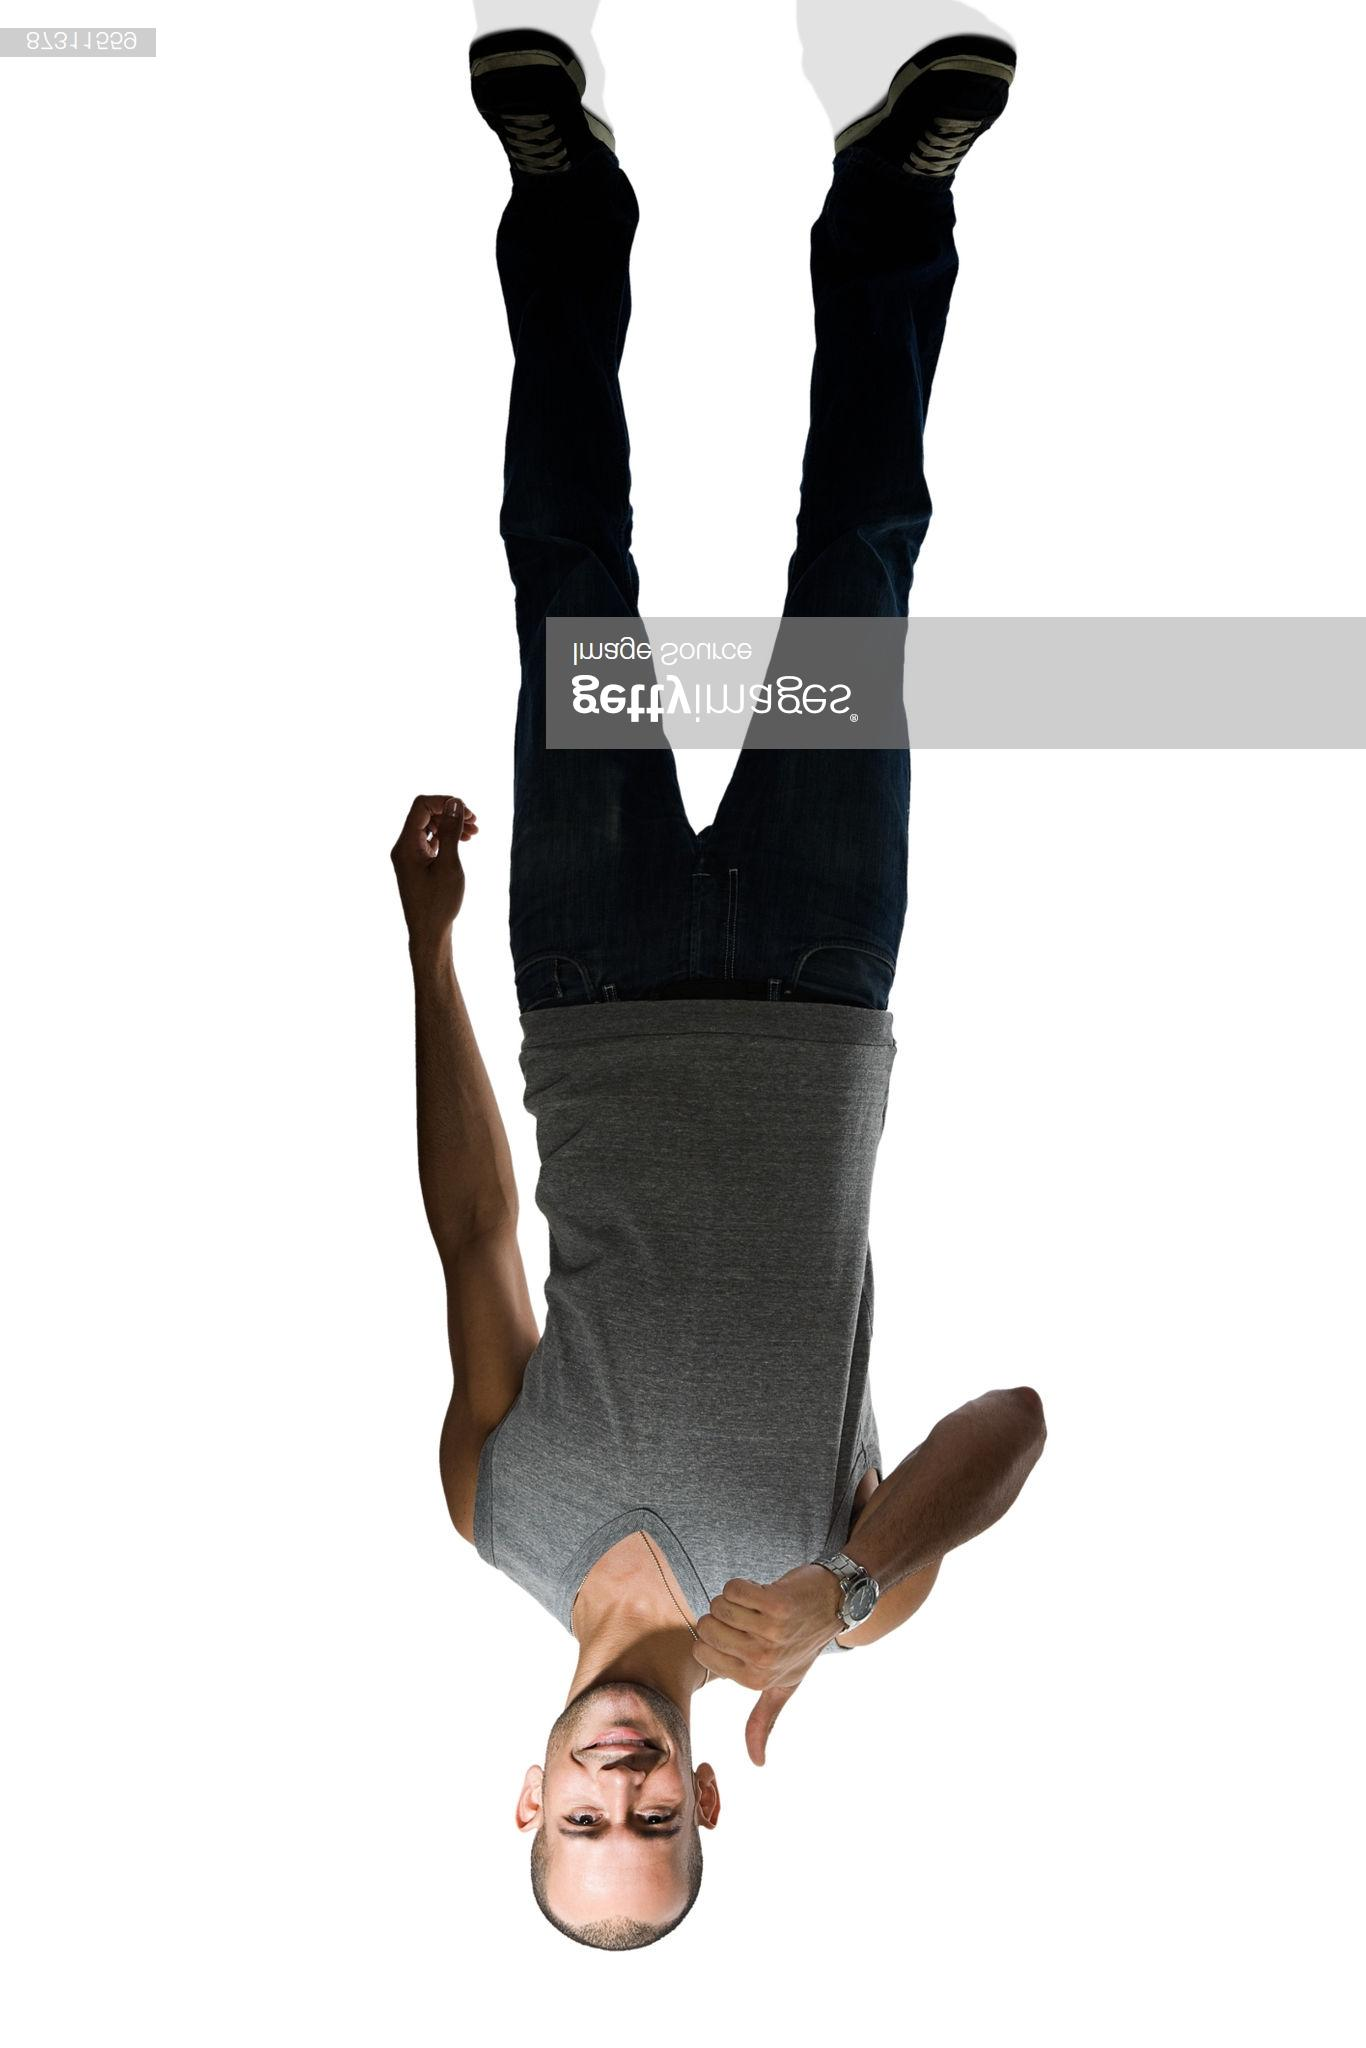thumbsdown: (691, 1579, 790, 1768)
